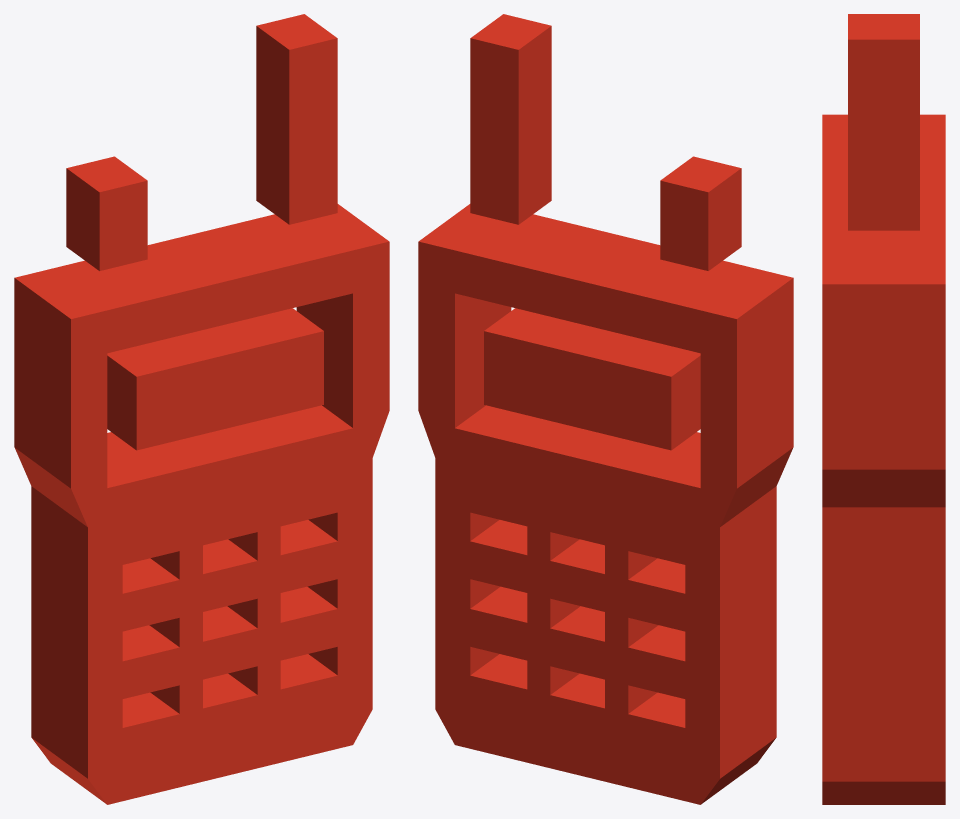
Rendered from Icon_Detonator_01.fbx.
3 renders of one model, left to right at view 1: azimuth 30°, elevation 25°; view 2: azimuth 150°, elevation 25°; view 3: azimuth 270°, elevation 25°, orthographic. The views are drawn at different scales.
Parts seen in each view (by area): view 1: Icon_Detonator_01; view 2: Icon_Detonator_01; view 3: Icon_Detonator_01.
Boxes of the visible parts, box(x1,y1,x2,y2) form: Icon_Detonator_01: box(14, 14, 389, 804); Icon_Detonator_01: box(418, 14, 793, 804); Icon_Detonator_01: box(822, 14, 945, 804).
Size of the model in its own units: 39.16 by 82.18 by 12.06.
